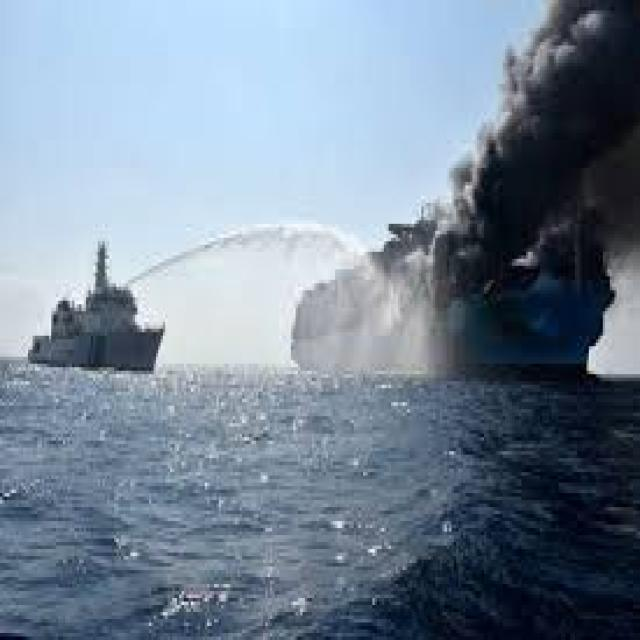navalvessels: (27, 229, 171, 377)
passenger ship: (288, 213, 611, 383)
